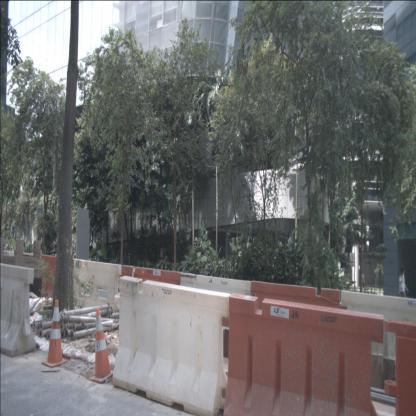barrier: (220, 293, 387, 416), (112, 276, 230, 416), (250, 280, 342, 383), (339, 288, 415, 398), (180, 272, 250, 384), (121, 264, 181, 356), (0, 264, 37, 359), (383, 318, 416, 416), (72, 259, 122, 323), (37, 254, 74, 312)
cone: (89, 307, 116, 384), (41, 300, 68, 368)
